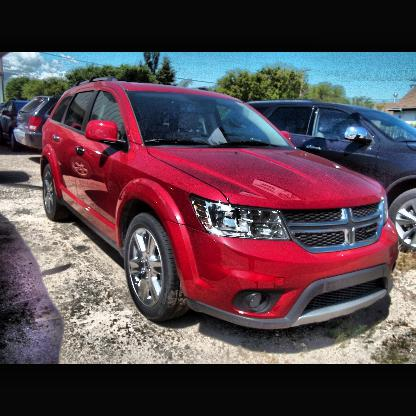Dodge Journey SUV 2012: (40, 82, 398, 330)
